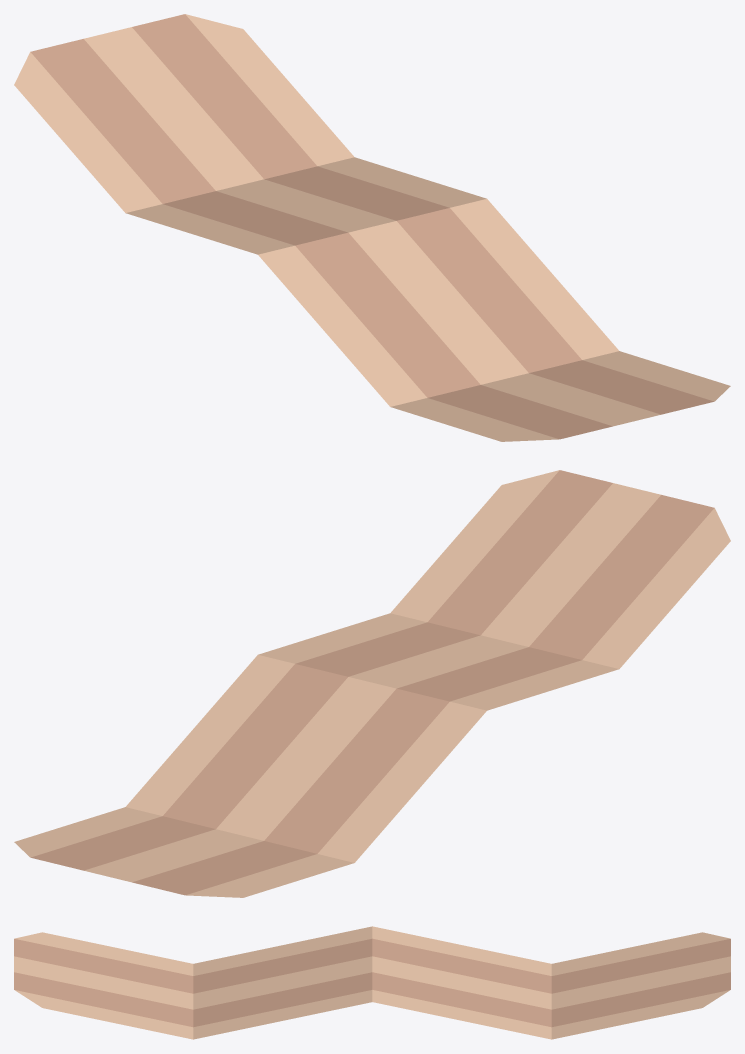
File: bacon.glb
3 views of the same model, one above another, from view 1: azimuth 30°, elevation 25°; view 2: azimuth 150°, elevation 25°; view 3: azimuth 270°, elevation 25° (orthographic). The views are drawn at different scales.
Visible parts, largest first — view 1: bacon; view 2: bacon; view 3: bacon.
Boxes of the visible parts, x1,y1,x2,y2 form: bacon: [14, 14, 730, 441]; bacon: [14, 470, 730, 897]; bacon: [14, 926, 730, 1039].
Size of the model in its own units: 0.13 by 0.03 by 0.52.
